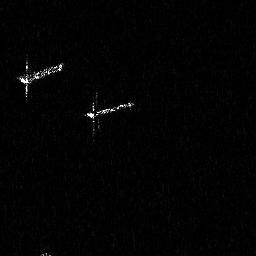ship: (82, 89, 137, 146), (16, 51, 66, 102)
